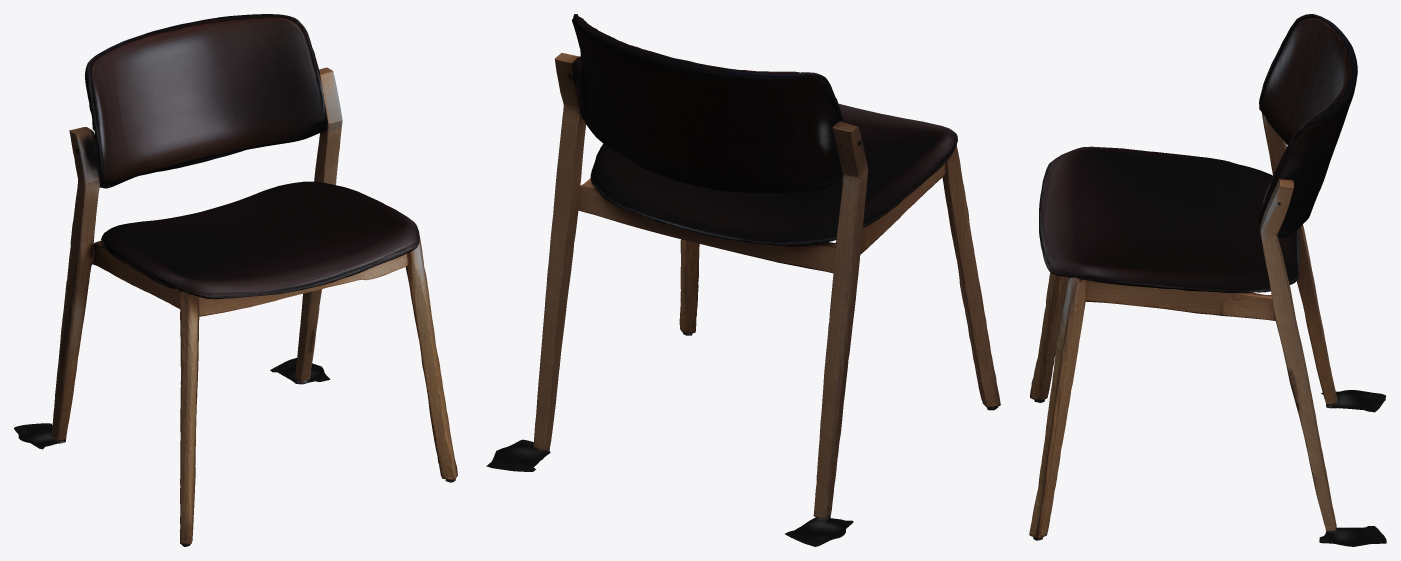
3 views of the same model, side by side, from view 1: azimuth 30°, elevation 25°; view 2: azimuth 150°, elevation 25°; view 3: azimuth 270°, elevation 25° (orthographic). The views are drawn at different scales.
Visible parts, largest first — view 1: world; view 2: world; view 3: world.
Boxes of the visible parts, x1,y1,x2,y2 form: world: (14,14,457,546); world: (486,14,1000,546); world: (1029,14,1386,546).
Size of the model in its own units: 0.833 by 1 by 0.8023.
1 material, 1 textured.
